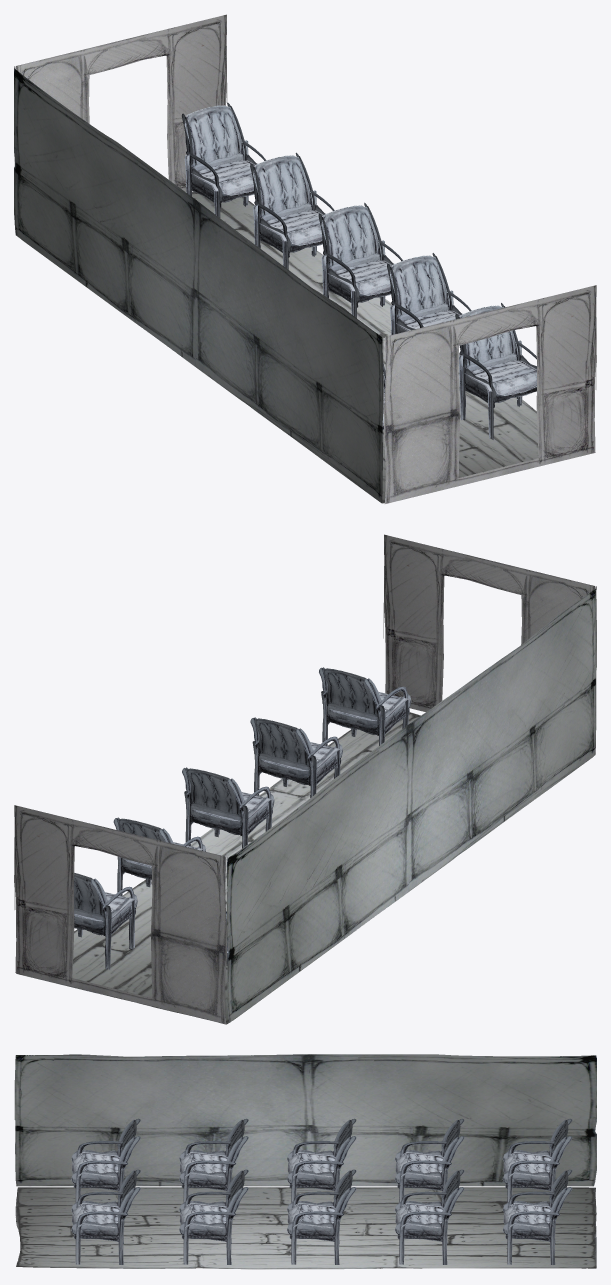
File: WagonOfChairs.fbx
3 renders of one model, top to bottom at view 1: azimuth 30°, elevation 25°; view 2: azimuth 150°, elevation 25°; view 3: azimuth 270°, elevation 25°, orthographic. The views are drawn at different scales.
Parts seen in each view (by area): view 1: BackWall, Plane, SideWall, SideWall.001, Floor; view 2: BackWall, SideWall.001, Plane, SideWall, Floor; view 3: BackWall, Floor, Plane.
Boxes of the visible parts, left/top/right/bottom form: BackWall: left=14, top=68, right=383, bottom=502; Plane: left=181, top=102, right=536, bottom=439; SideWall: left=383, top=285, right=596, bottom=503; SideWall.001: left=14, top=14, right=227, bottom=233; Floor: left=21, top=191, right=538, bottom=503; BackWall: left=227, top=588, right=596, bottom=1022; SideWall.001: left=14, top=805, right=227, bottom=1023; Plane: left=74, top=667, right=411, bottom=969; SideWall: left=383, top=534, right=596, bottom=711; Floor: left=16, top=712, right=593, bottom=1024; BackWall: left=14, top=1054, right=596, bottom=1186; Floor: left=15, top=1187, right=596, bottom=1269; Plane: left=71, top=1118, right=572, bottom=1264.
Bounding box in the file's own units: 200 × 155 × 600.
